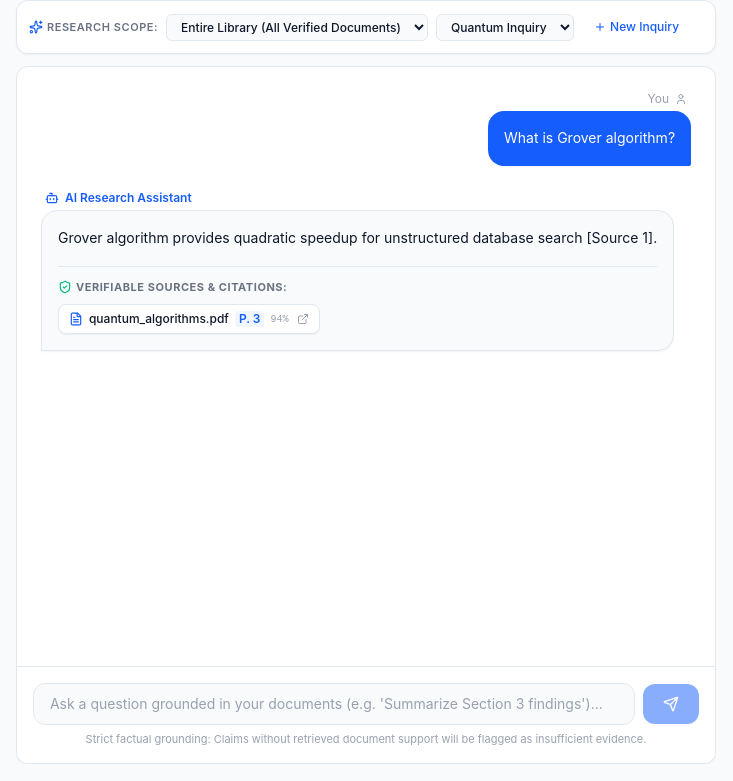
WorkspacePage Chat and Citations › displays error banner and does not show fabricated message when inquiry fails
Expected: the text "What is Grover algorithm?" is shown, [504,127,675,150]
Replace the text in the field with placeholder "Ask a question grounded in your documents" with "What are three examples of renewable energy?" at (334, 704), box [33,682,635,724]
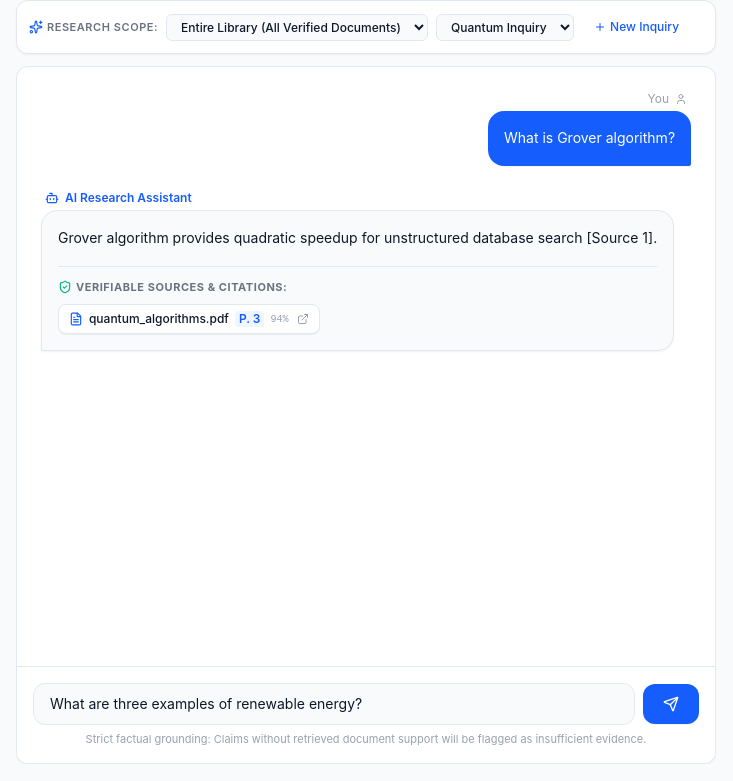
Submit the form with placeholder "Ask a question grounded in your documents", box [33,682,699,724]
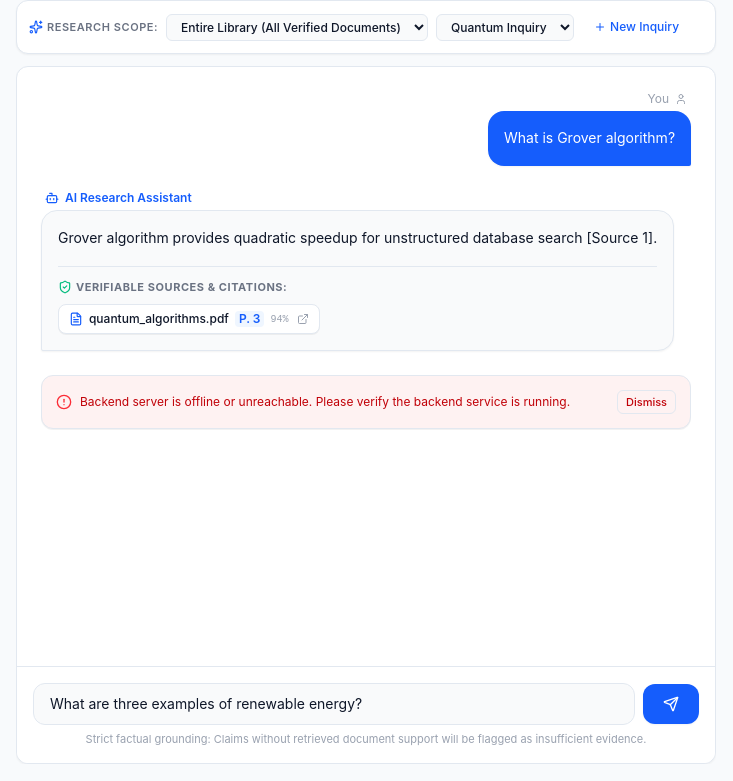
Result: the text "Backend server is offline or unreachable. Please verify the backend service is running." is shown at [80,394,570,409]
